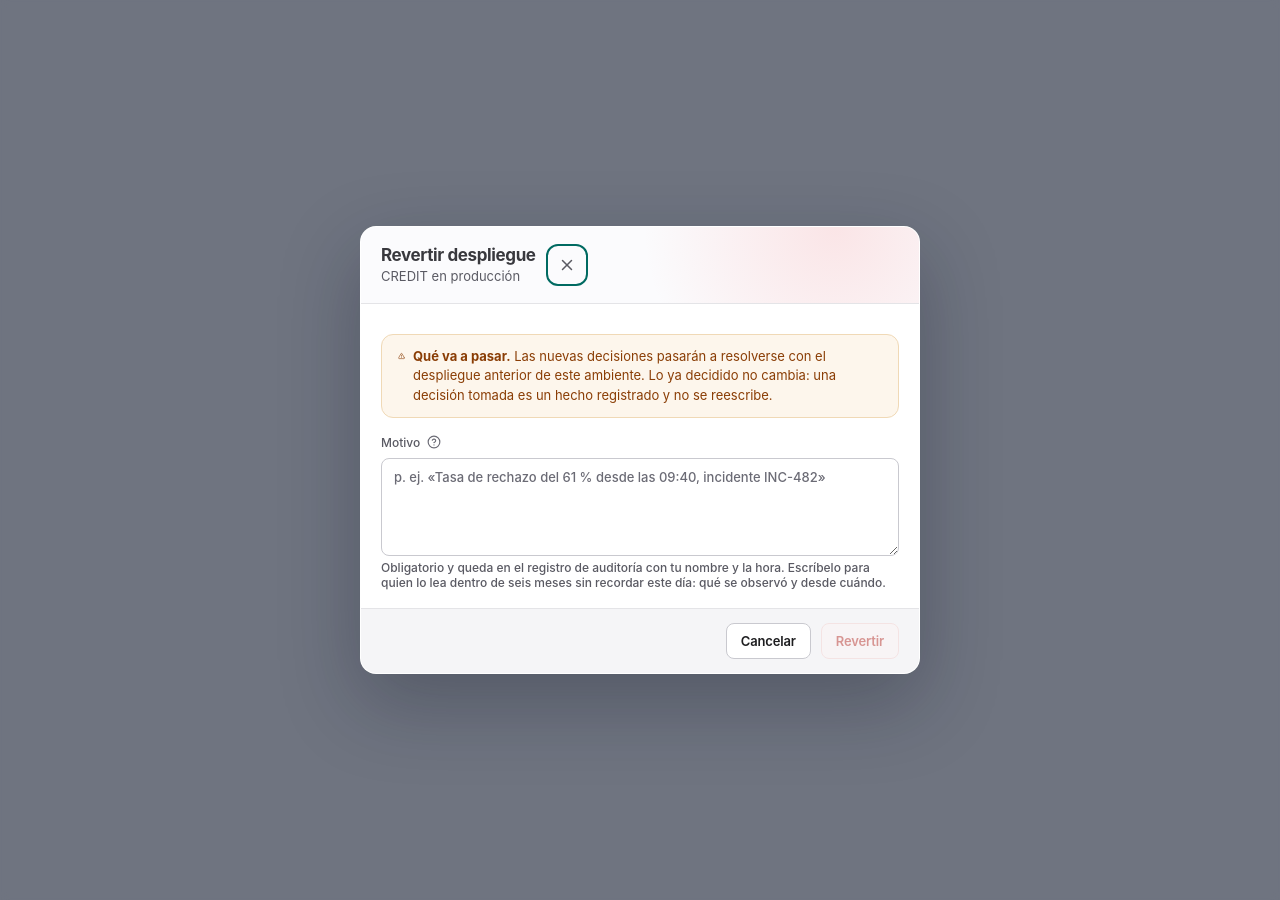
Test case: DeploymentControlDialog › mantiene el diálogo y el motivo ante un conflicto del motor
This screenshot has width=1280, height=900.
Replace the text in the text box labelled "Motivo" with "Incidente confirmado en producción" at point(640, 507), box [381,458,899,556]
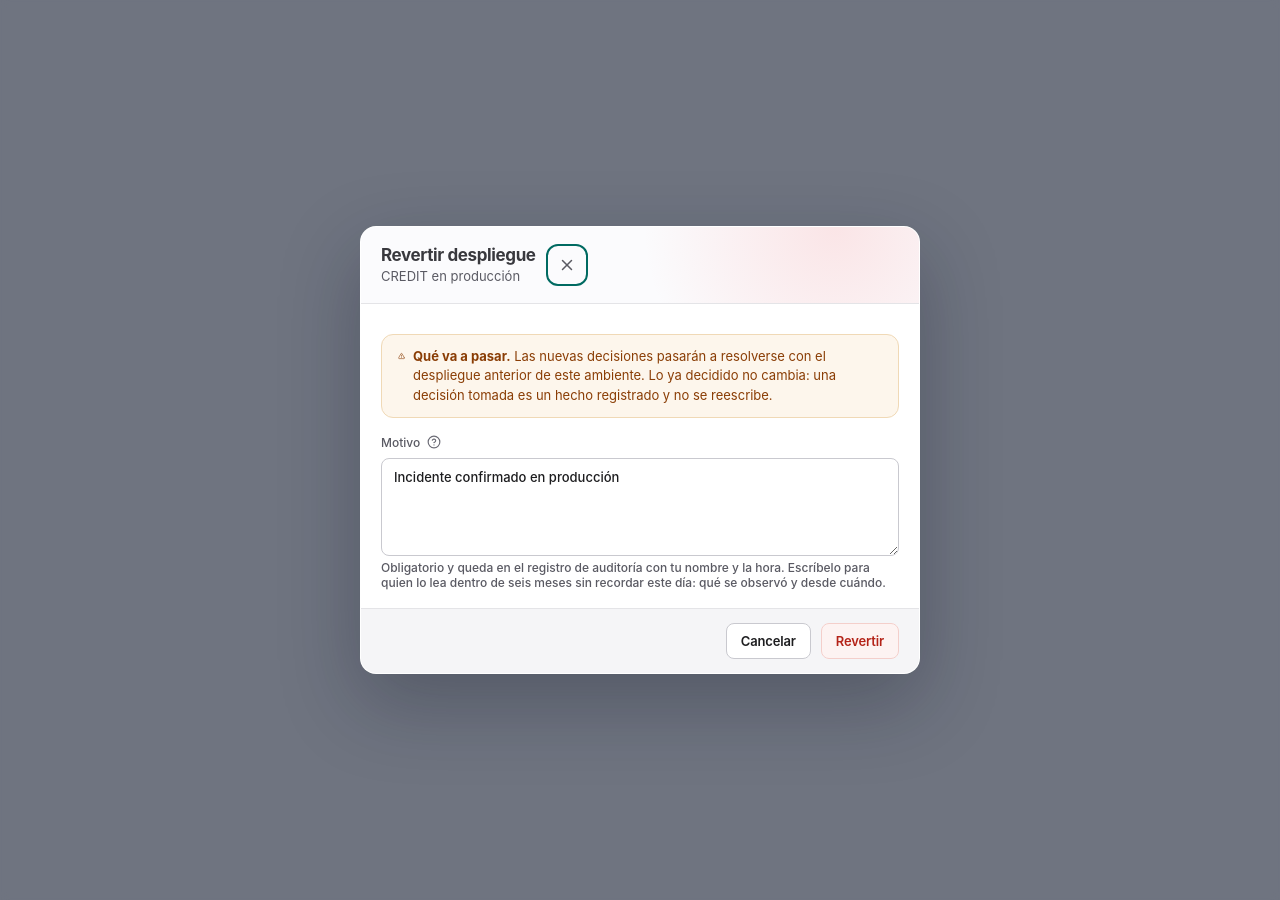
Click the button "Revertir" at point(860, 641), box [821,623,899,659]
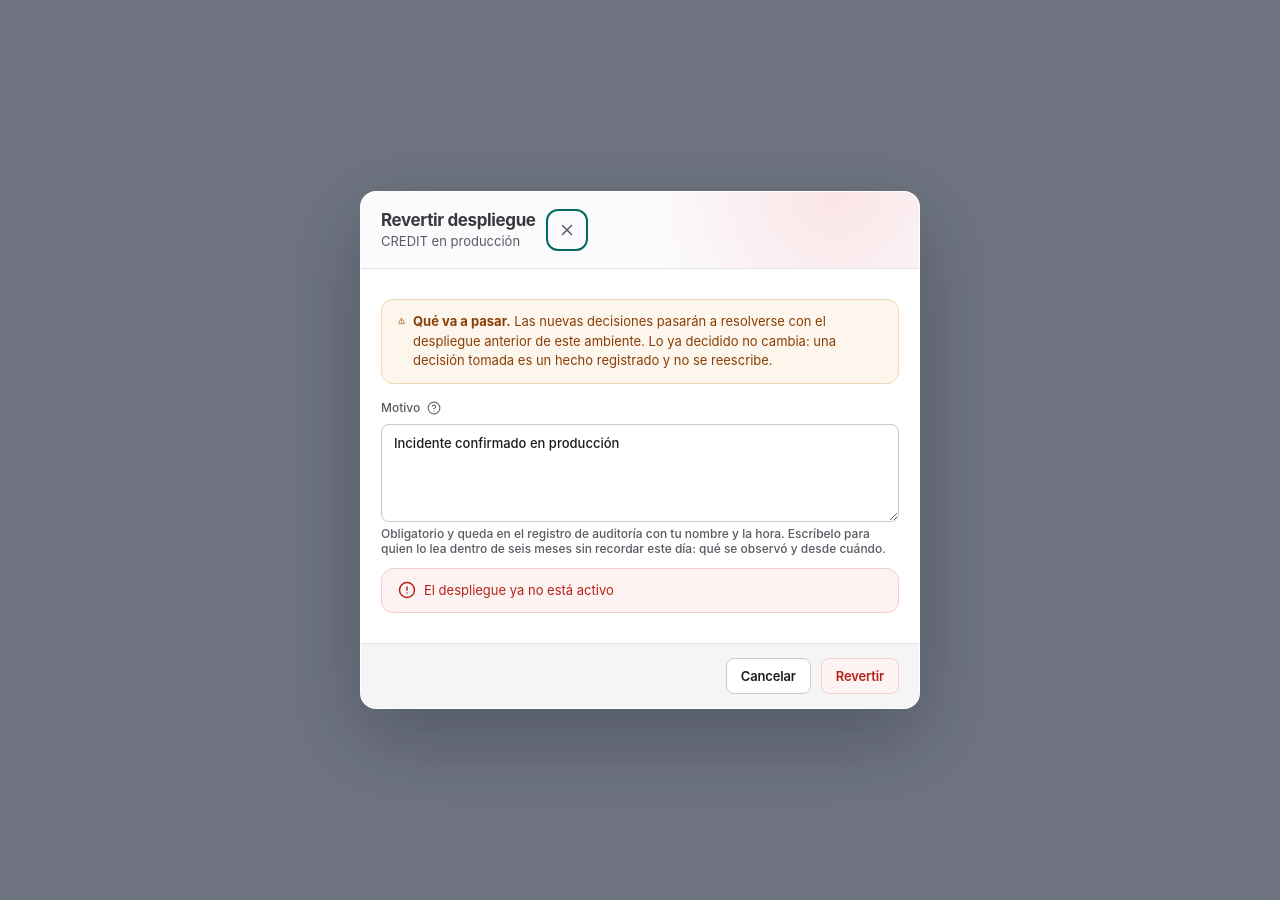
Now the text "El despliegue ya no está activo" is shown, box [424,580,614,600]
